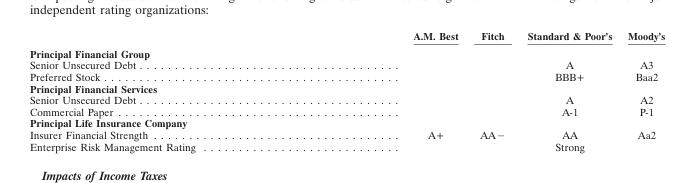table: (28, 28, 664, 152)
table column: (28, 28, 303, 152), (303, 28, 468, 152), (515, 28, 619, 152), (468, 28, 515, 152), (619, 28, 664, 152)
table column header: (28, 28, 664, 43)
table projected row header: (28, 43, 664, 58), (28, 82, 664, 93), (28, 117, 664, 128)
table row: (28, 28, 664, 43), (28, 43, 664, 58), (28, 58, 664, 70), (28, 70, 664, 82), (28, 93, 664, 105), (28, 105, 664, 117), (28, 128, 664, 140), (28, 140, 664, 152), (28, 82, 664, 93), (28, 117, 664, 128)
